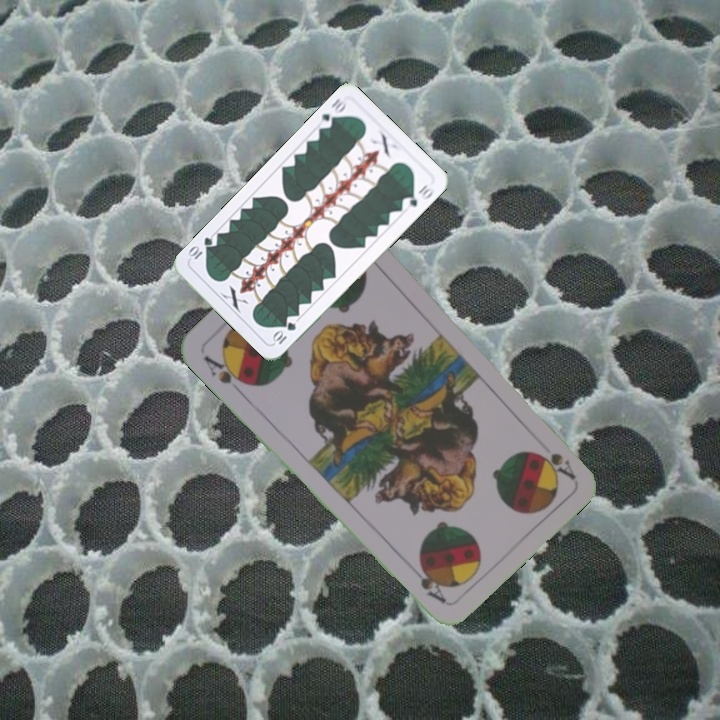G10: (317, 94, 350, 131), (269, 318, 299, 347)
SA: (200, 351, 252, 397), (539, 449, 578, 482)
